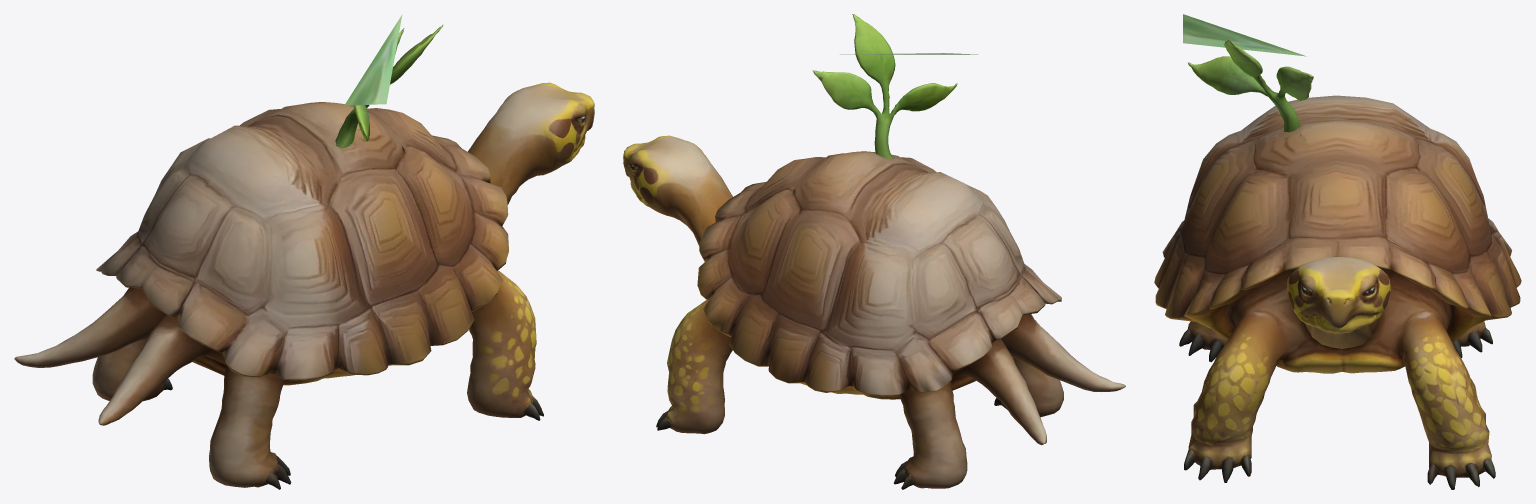
The model's file is tortue-foret.glb.
3 renders of one model, left to right at view 1: azimuth 30°, elevation 25°; view 2: azimuth 150°, elevation 25°; view 3: azimuth 270°, elevation 25°, orthographic. The views are drawn at different scales.
Parts seen in each view (by area): view 1: tripo_node_f2292e5f-181b-4b58-8d82-05272c6834e3; view 2: tripo_node_f2292e5f-181b-4b58-8d82-05272c6834e3; view 3: tripo_node_f2292e5f-181b-4b58-8d82-05272c6834e3.
Boxes of the visible parts, x1,y1,x2,y2 form: tripo_node_f2292e5f-181b-4b58-8d82-05272c6834e3: (14,14,594,489); tripo_node_f2292e5f-181b-4b58-8d82-05272c6834e3: (623,14,1125,489); tripo_node_f2292e5f-181b-4b58-8d82-05272c6834e3: (1154,14,1521,489).
Size of the model in its own units: 0.411 by 0.3 by 0.2485.
Materials: 1 (1 with a texture image).
